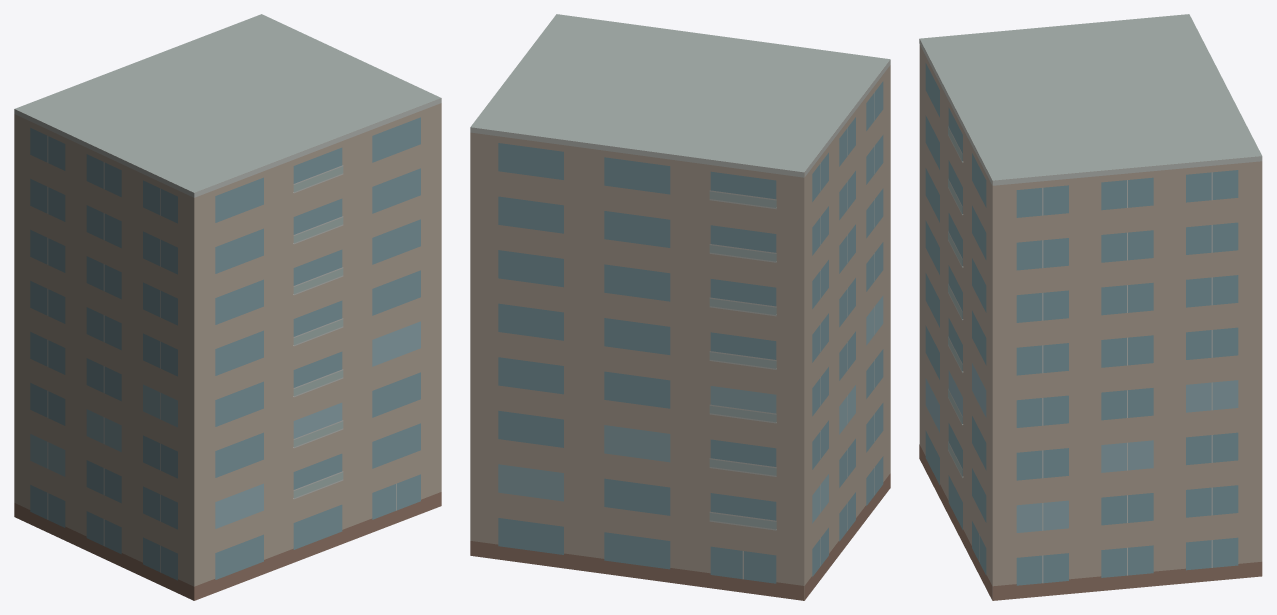
File: survey-upis-32809450.glb
3 views of the same model, side by side, from view 1: azimuth 30°, elevation 25°; view 2: azimuth 150°, elevation 25°; view 3: azimuth 270°, elevation 25° (orthographic). The views are drawn at different scales.
Visible parts, largest first — view 1: survey-upis-32809450.tmp; view 2: survey-upis-32809450.tmp; view 3: survey-upis-32809450.tmp.
Boxes of the visible parts, x1,y1,x2,y2 form: survey-upis-32809450.tmp: (14, 14, 441, 600); survey-upis-32809450.tmp: (470, 14, 890, 600); survey-upis-32809450.tmp: (919, 14, 1262, 600).
Size of the model in its own units: 16.94 by 19.9 by 14.72.
